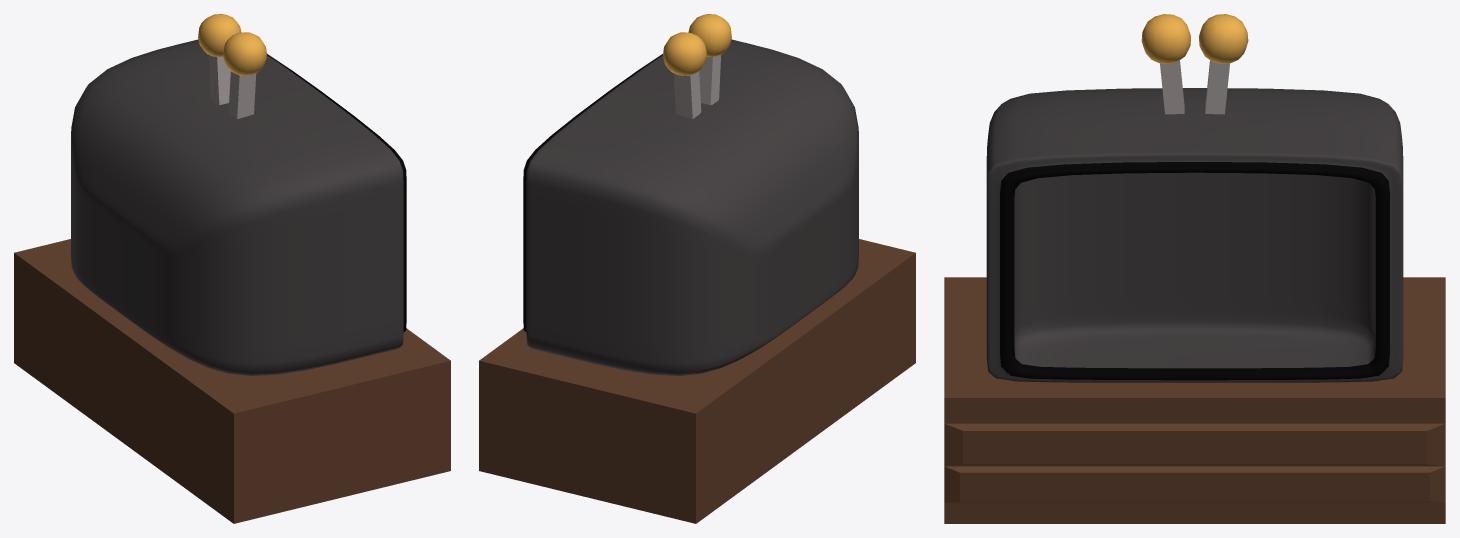
The picture shows the model from 3 angles, left to right: view 1: azimuth 30°, elevation 25°; view 2: azimuth 150°, elevation 25°; view 3: azimuth 270°, elevation 25°; orthographic projection. The views are drawn at different scales.
Visible parts, largest first — view 1: Cube; view 2: Cube; view 3: Cube.
Part boxes in pixels (left/top/right/bottom): Cube: left=14, top=14, right=450, bottom=523; Cube: left=479, top=14, right=915, bottom=523; Cube: left=944, top=14, right=1445, bottom=523.
Bounding box in the file's own units: 117 × 197 × 200.
